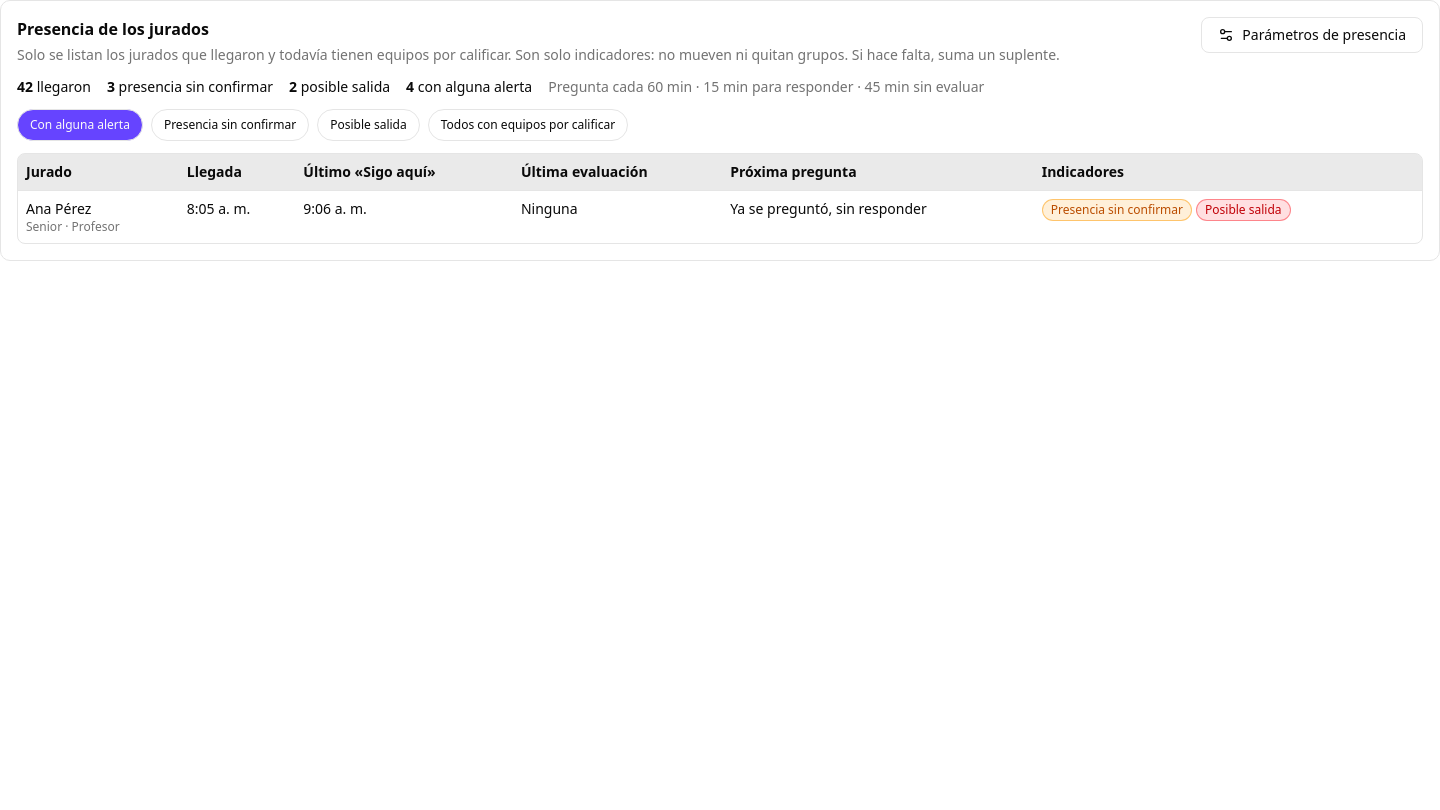
Test case: Presencia de los jurados en el panel (HU-23) › no envía parámetros fuera de rango
Expected: the text "Ana Pérez" is shown, 26,199 -> 91,218
Click the button "Parámetros de presencia".
click(1312, 35)  # box 1201,17 -> 1423,53
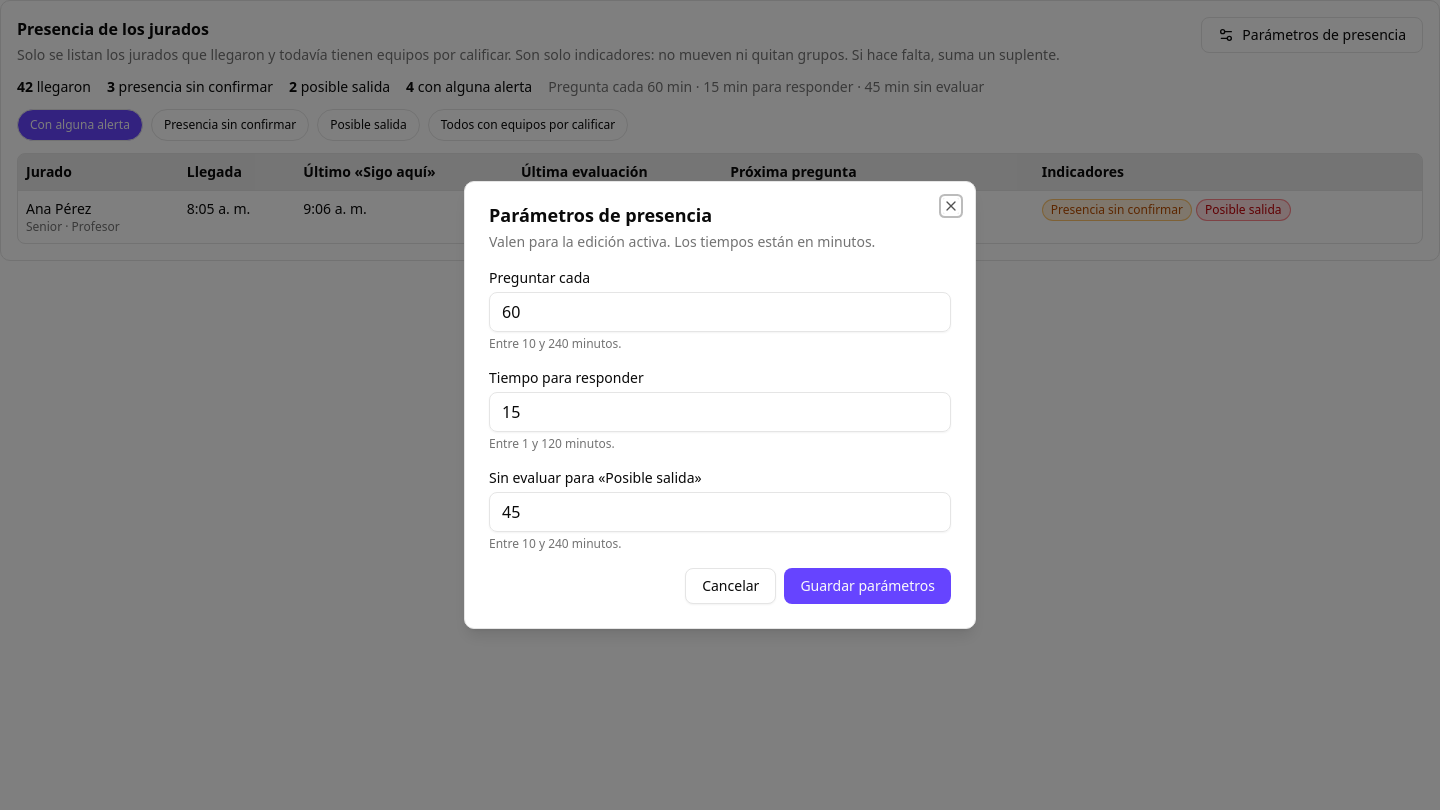
Replace the text in the number field labelled "Preguntar cada Entre 10 y 240 minutos." with "5" at (720, 312), box 489,292 -> 951,332
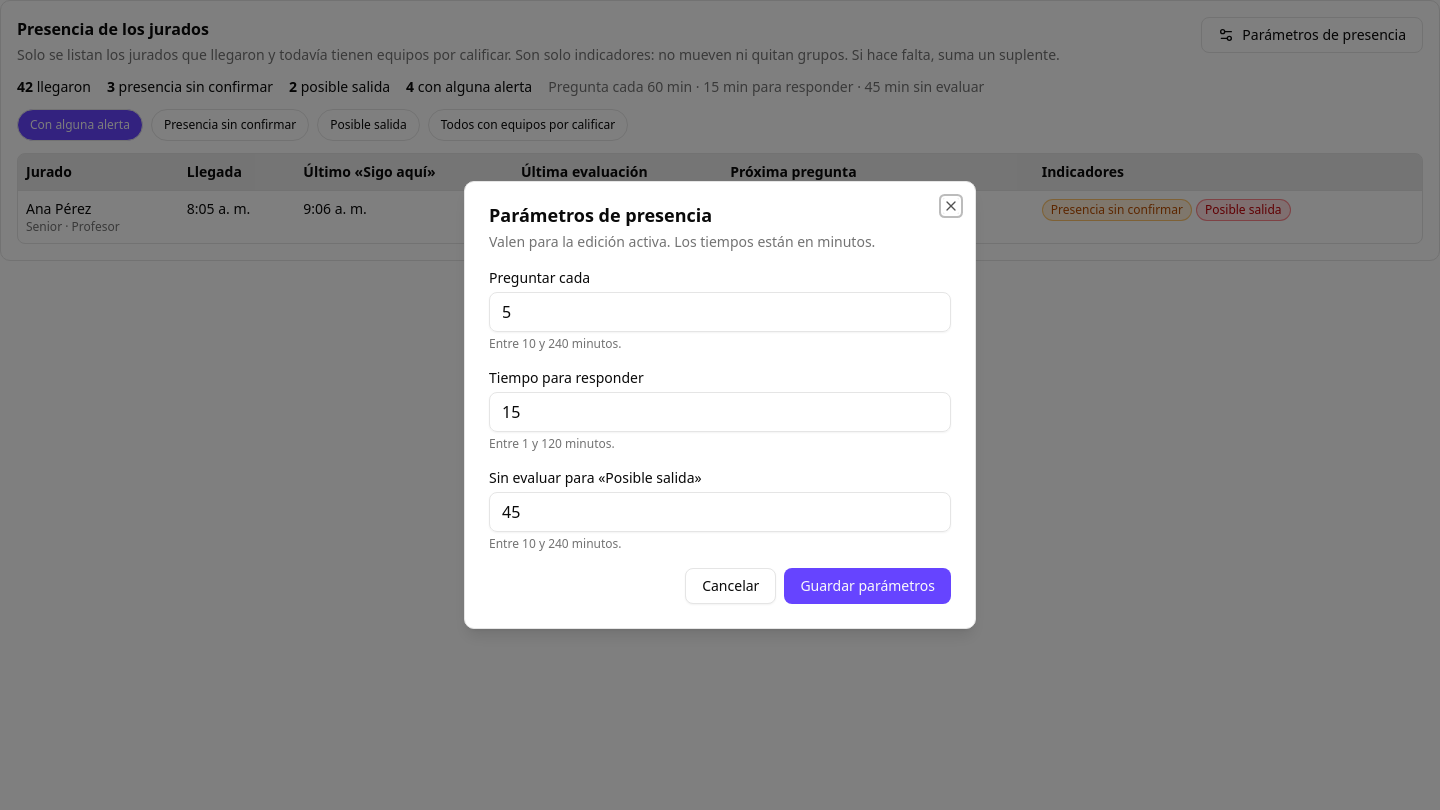
Click the button "Guardar parámetros".
click(868, 586)  # box 784,568 -> 951,604
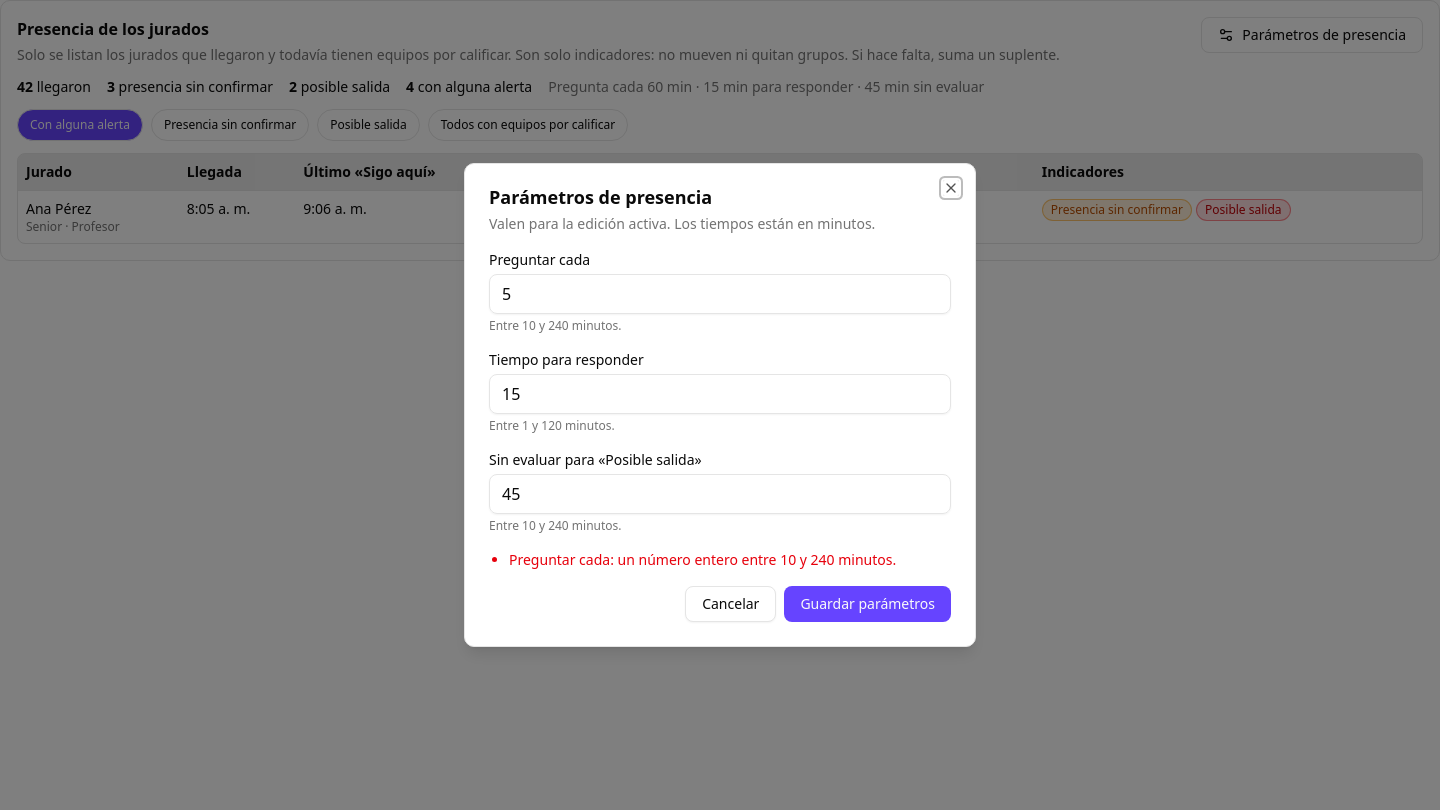
Now the list item "Preguntar cada: un número entero entre 10 y 240 minutos." is shown, box 509,550 -> 951,570
